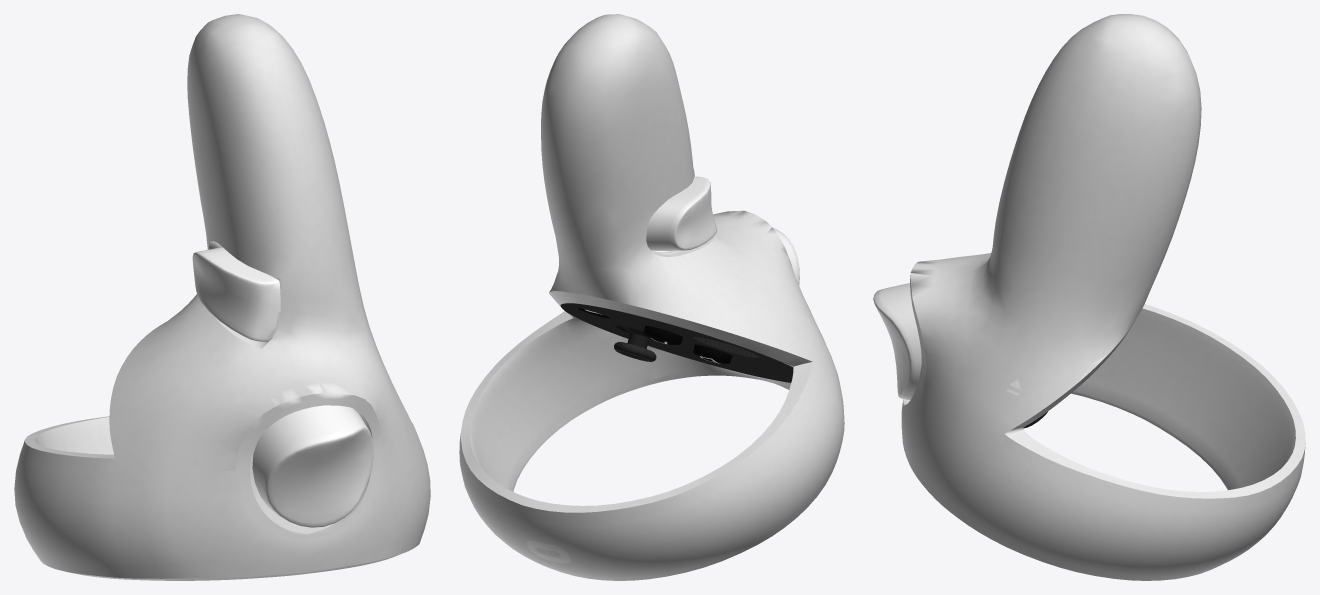
File: controller_r.glb
3 views of the same model, side by side, from view 1: azimuth 30°, elevation 25°; view 2: azimuth 150°, elevation 25°; view 3: azimuth 270°, elevation 25° (orthographic). The views are drawn at different scales.
Visible parts, largest first — view 1: Controller_R; view 2: Controller_R; view 3: Controller_R.
Boxes of the visible parts, x1,y1,x2,y2 form: Controller_R: [14, 14, 430, 580]; Controller_R: [459, 14, 844, 580]; Controller_R: [873, 14, 1305, 580].
Bounding box in the file's own units: 0.1001 × 0.1476 × 0.1101.
Materials: 1 (1 with a texture image).
